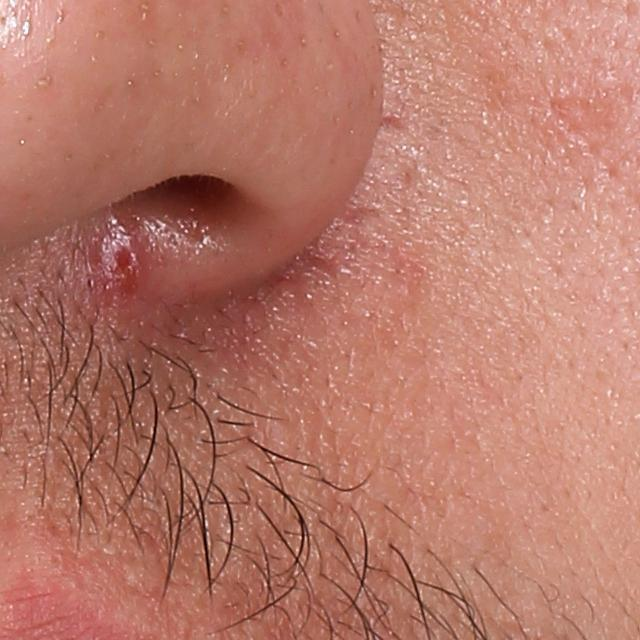papule: (94, 225, 149, 297)
